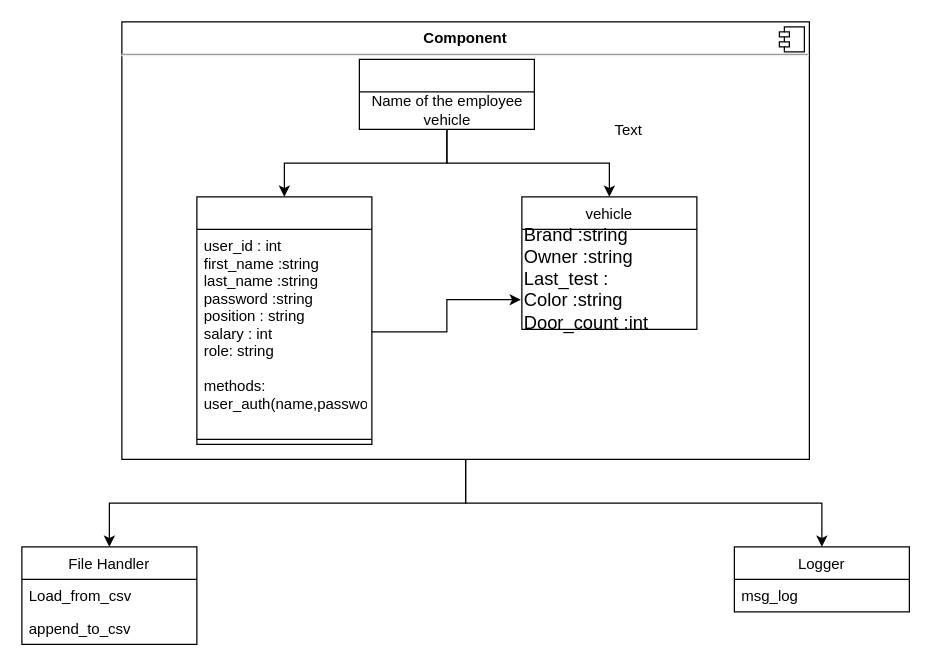
Some shapes in this 931 by 670 pixel diagram are drawn without their labels. The box of each missing label's shape, as (x1, y1, x2, y2) in pixels:
carlot: (358, 58, 534, 129)
Employee/user: (196, 196, 372, 444)
